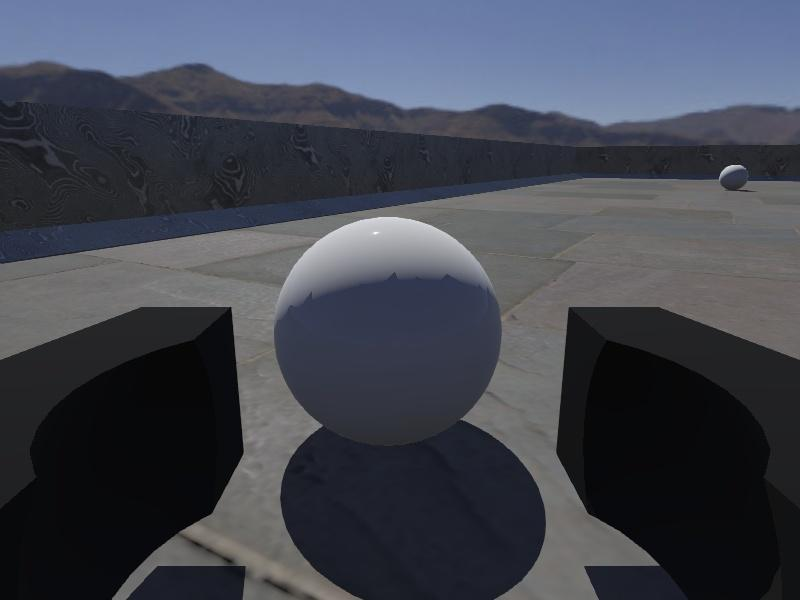white ball: (272, 215, 504, 448), (719, 163, 750, 191)
